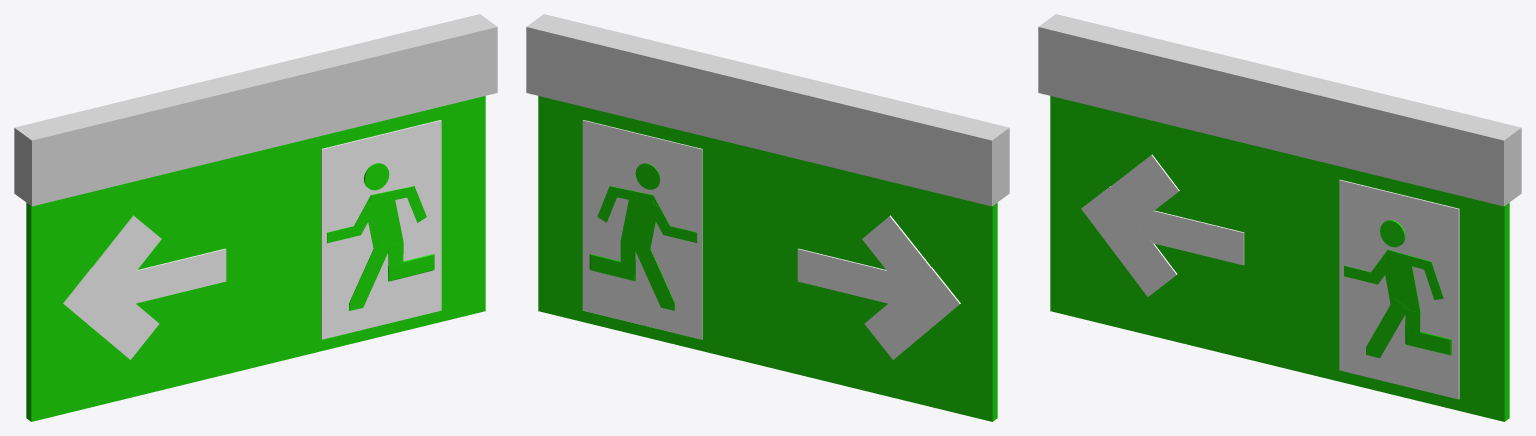
Rendered from NødudgangVenstre.fbx.
The picture shows the model from 3 angles, left to right: view 1: azimuth 30°, elevation 25°; view 2: azimuth 150°, elevation 25°; view 3: azimuth 330°, elevation 25°; orthographic projection.
Parts seen in each view (by area): view 1: Cube, Cube.001, Cube.002, Cube.006, Cube.007, Cube.003, Cube.008, Cube.011, Cube.010, Cylinder, Cube.012; view 2: Cube, Cube.001, Cube.002, Cube.006, Cube.003, Cube.007, Cube.008, Cube.011, Cube.010, Cylinder; view 3: Cube, Cube.001, Cube.002, Cube.007, Cube.003, Cube.006, Cube.008, Cube.011, Cube.010, Cylinder, Cube.012.
Boxes of the visible parts, x1=… form: Cube: x1=26, y1=96, x2=485, y2=421; Cube.001: x1=14, y1=14, x2=497, y2=206; Cube.002: x1=321, y1=120, x2=441, y2=339; Cube.006: x1=64, y1=215, x2=161, y2=326; Cube.007: x1=63, y1=267, x2=159, y2=359; Cube.003: x1=121, y1=248, x2=226, y2=303; Cube.008: x1=365, y1=200, x2=403, y2=248; Cube.011: x1=349, y1=240, x2=391, y2=307; Cube.010: x1=388, y1=254, x2=434, y2=281; Cylinder: x1=364, y1=163, x2=389, y2=190; Cube.012: x1=370, y1=186, x2=414, y2=204; Cube: x1=538, y1=96, x2=997, y2=421; Cube.001: x1=526, y1=14, x2=1009, y2=206; Cube.002: x1=582, y1=120, x2=702, y2=339; Cube.006: x1=862, y1=215, x2=958, y2=326; Cube.003: x1=797, y1=248, x2=902, y2=303; Cube.007: x1=864, y1=267, x2=960, y2=359; Cube.008: x1=620, y1=194, x2=658, y2=254; Cube.011: x1=635, y1=249, x2=674, y2=306; Cube.010: x1=589, y1=254, x2=635, y2=280; Cylinder: x1=635, y1=163, x2=660, y2=189; Cube: x1=1050, y1=96, x2=1509, y2=421; Cube.001: x1=1038, y1=14, x2=1521, y2=206; Cube.002: x1=1339, y1=179, x2=1459, y2=399; Cube.007: x1=1081, y1=186, x2=1177, y2=296; Cube.003: x1=1138, y1=210, x2=1244, y2=265; Cube.006: x1=1082, y1=154, x2=1179, y2=239; Cube.008: x1=1382, y1=258, x2=1420, y2=312; Cube.011: x1=1366, y1=298, x2=1407, y2=357; Cube.010: x1=1405, y1=329, x2=1451, y2=355; Cylinder: x1=1380, y1=220, x2=1405, y2=247; Cube.012: x1=1387, y1=249, x2=1431, y2=271.
Size of the model in its own units: 177 by 104 by 11.62.
